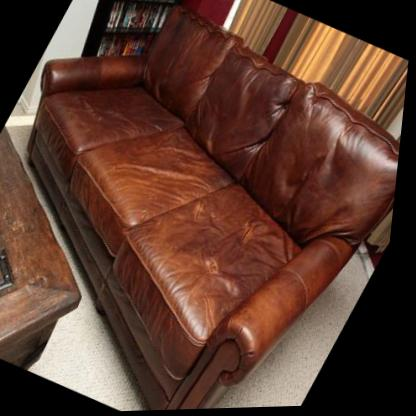Carpet: (222, 248, 379, 410)
Sofa: (23, 6, 404, 412)
